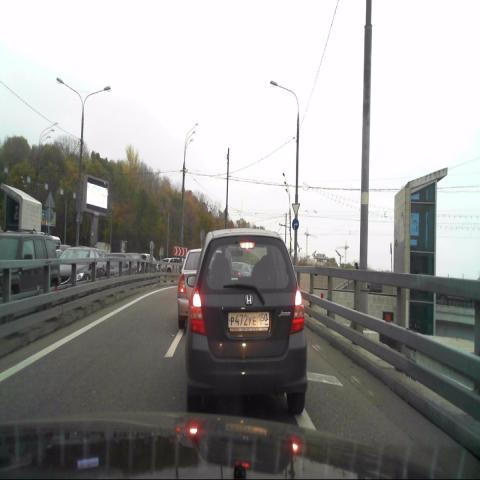2_4: (291, 202, 300, 216)
4_1_2: (292, 217, 299, 231)
